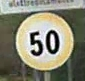limite 50: (11, 11, 75, 72)
